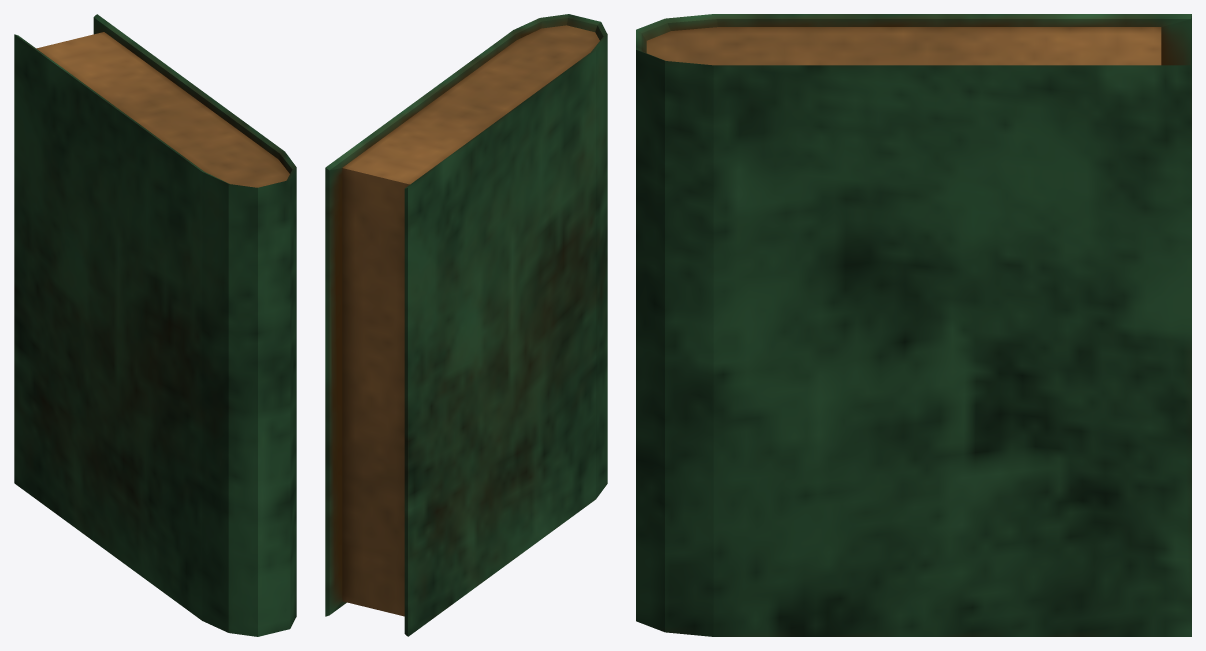
Rendered from Book2.fbx.
3 renders of one model, left to right at view 1: azimuth 30°, elevation 25°; view 2: azimuth 150°, elevation 25°; view 3: azimuth 270°, elevation 25°, orthographic. The views are drawn at different scales.
Parts seen in each view (by area): view 1: Book3; view 2: Book3; view 3: Book3.
Part boxes in pixels (left/top/right/bottom): Book3: left=14, top=14, right=296, bottom=636; Book3: left=325, top=14, right=607, bottom=636; Book3: left=636, top=14, right=1191, bottom=636.
Size of the model in its own units: 6.96 by 36.07 by 31.79.
Materials: 1 (1 with a texture image).
